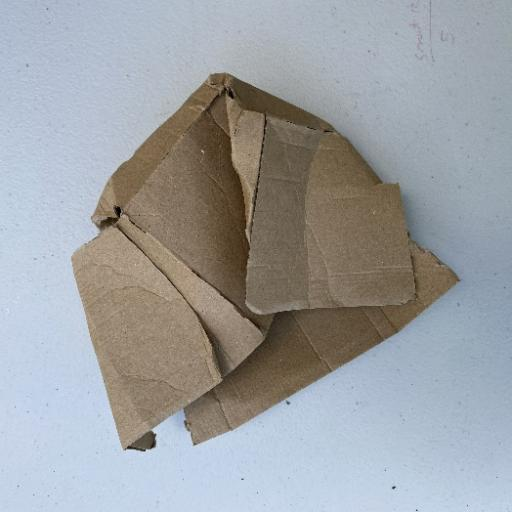Cardboard: (70, 70, 462, 450)
